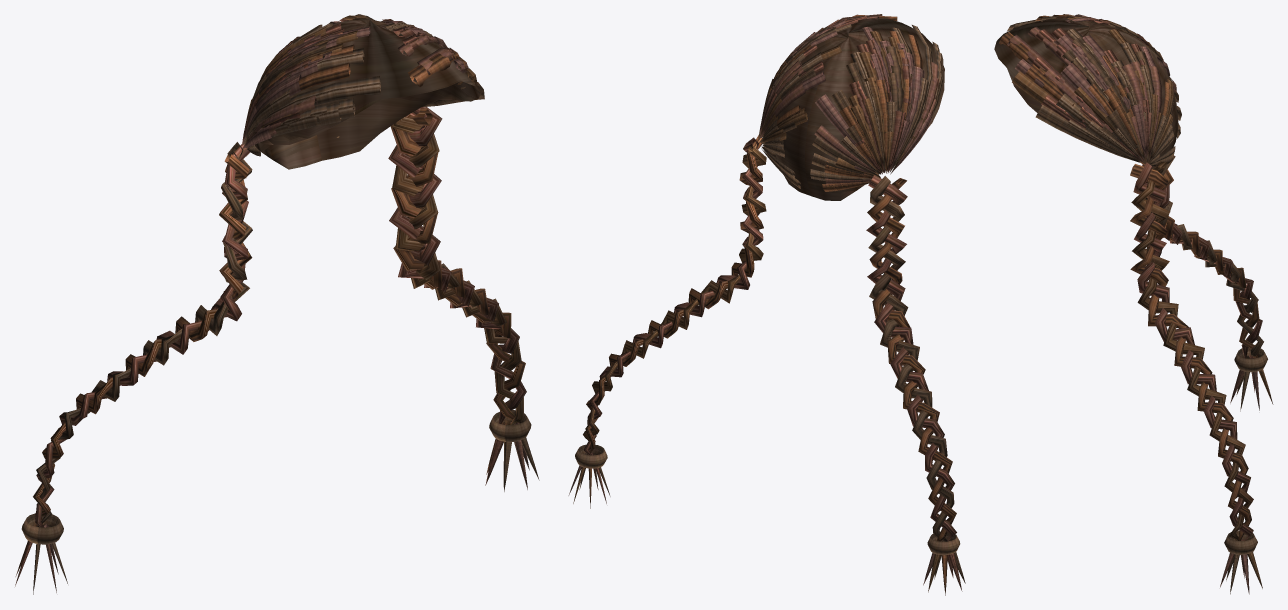
Rendered from trancas.glb.
The picture shows the model from 3 angles, left to right: view 1: azimuth 30°, elevation 25°; view 2: azimuth 150°, elevation 25°; view 3: azimuth 270°, elevation 25°; orthographic projection. The views are drawn at different scales.
Visible parts, largest first — view 1: cabelo_trancas; view 2: cabelo_trancas; view 3: cabelo_trancas.
Boxes of the visible parts, bbox=[...] form: cabelo_trancas: bbox=[15, 14, 539, 594]; cabelo_trancas: bbox=[568, 14, 965, 595]; cabelo_trancas: bbox=[994, 14, 1273, 594].
Bounding box in the file's own units: 0.4362 × 0.4827 × 0.2591.
1 material, 1 textured.
